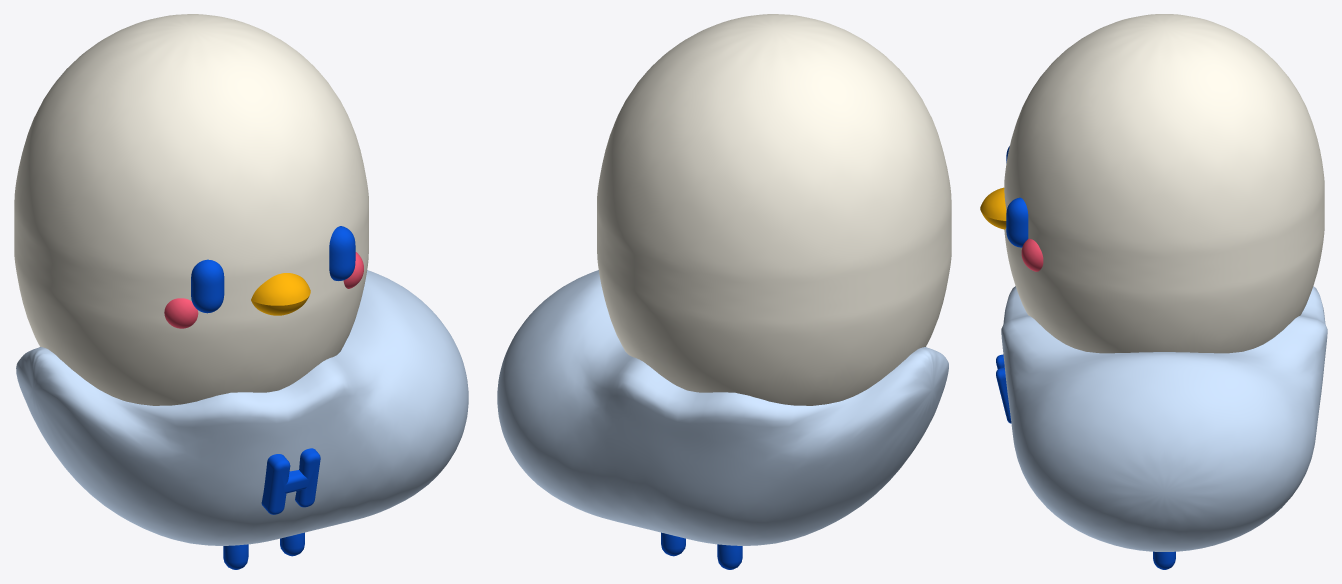
The model's file is 하이비비.fbx.
3 renders of one model, left to right at view 1: azimuth 30°, elevation 25°; view 2: azimuth 150°, elevation 25°; view 3: azimuth 270°, elevation 25°, orthographic. The views are drawn at different scales.
Parts seen in each view (by area): view 1: 하이비비; view 2: 하이비비; view 3: 하이비비.
Boxes of the visible parts, x1,y1,x2,y2 form: 하이비비: (14, 14, 468, 569); 하이비비: (497, 14, 951, 569); 하이비비: (980, 14, 1327, 569).
Bounding box in the file's own units: 206 × 263 × 167.
